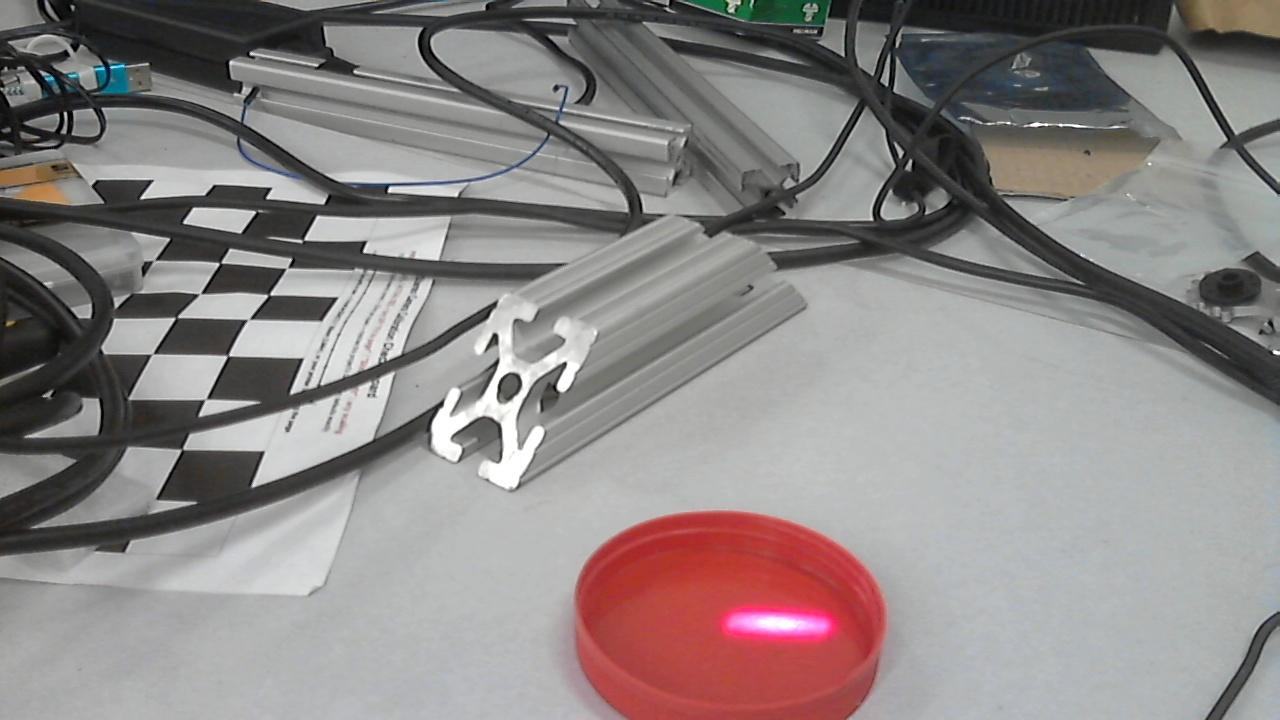Object plastic container lid - Material plastic - Color red - Pdfname ZC63DBkv6o: (712, 603, 844, 652)
